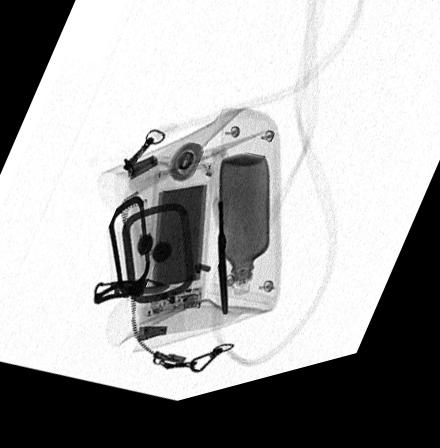Knife: (91, 285, 185, 312)
Powerbank: (146, 173, 211, 324)
Scissors: (208, 160, 233, 334)
